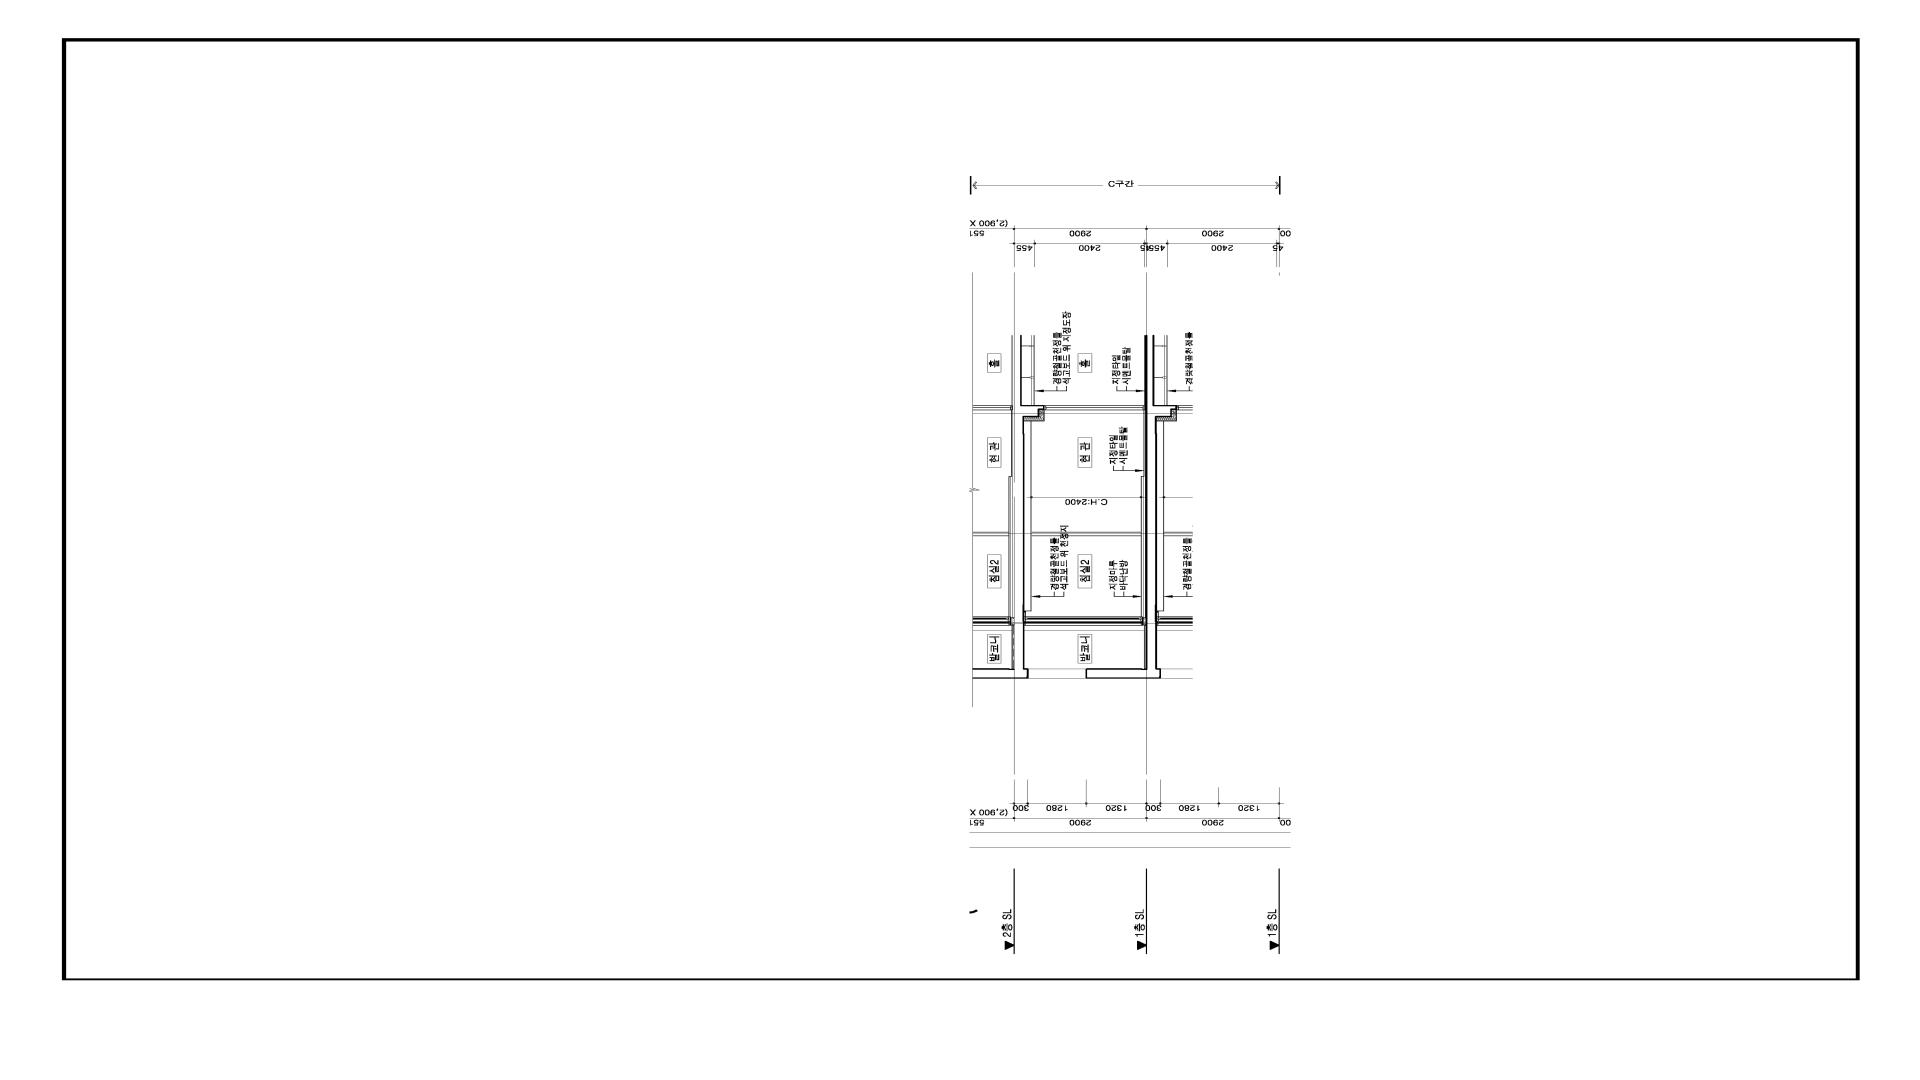door: (1044, 405, 1145, 414)
wall: (1085, 335, 1157, 679), (1012, 335, 1044, 679), (1032, 532, 1141, 536), (1143, 617, 1145, 625)
window: (1024, 616, 1145, 631), (1029, 669, 1086, 678)
